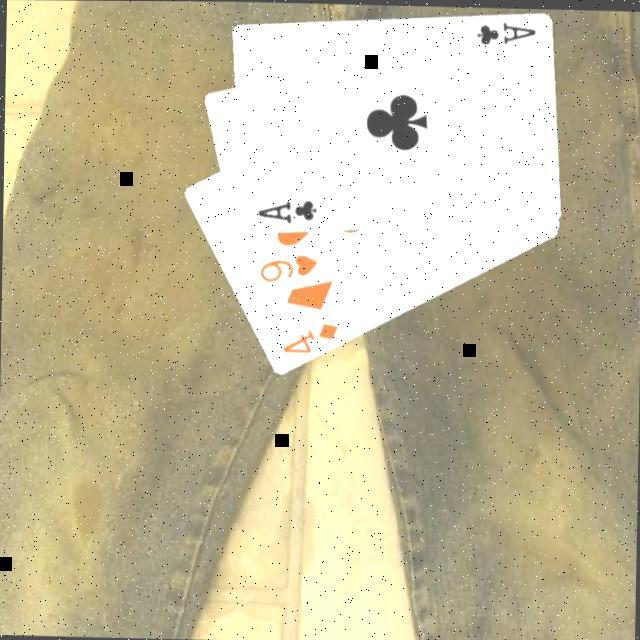4D: (276, 317, 339, 356)
9H: (254, 247, 319, 284)
AC: (469, 15, 536, 46), (251, 193, 317, 224)
